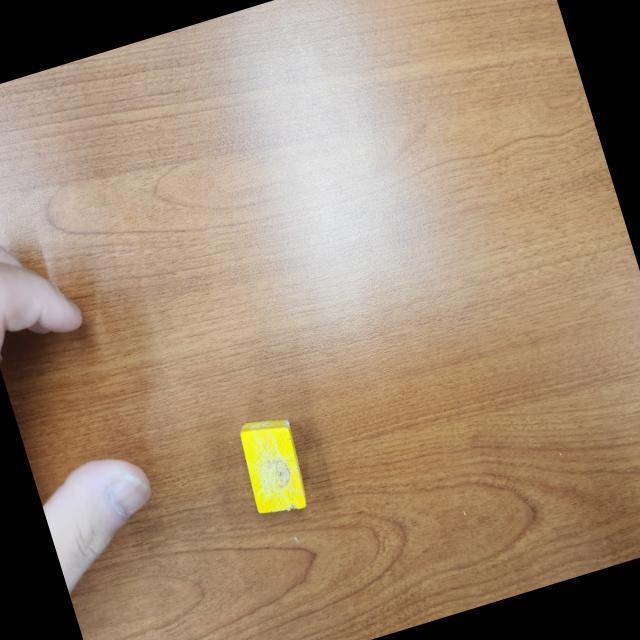broken: (231, 408, 315, 522)
